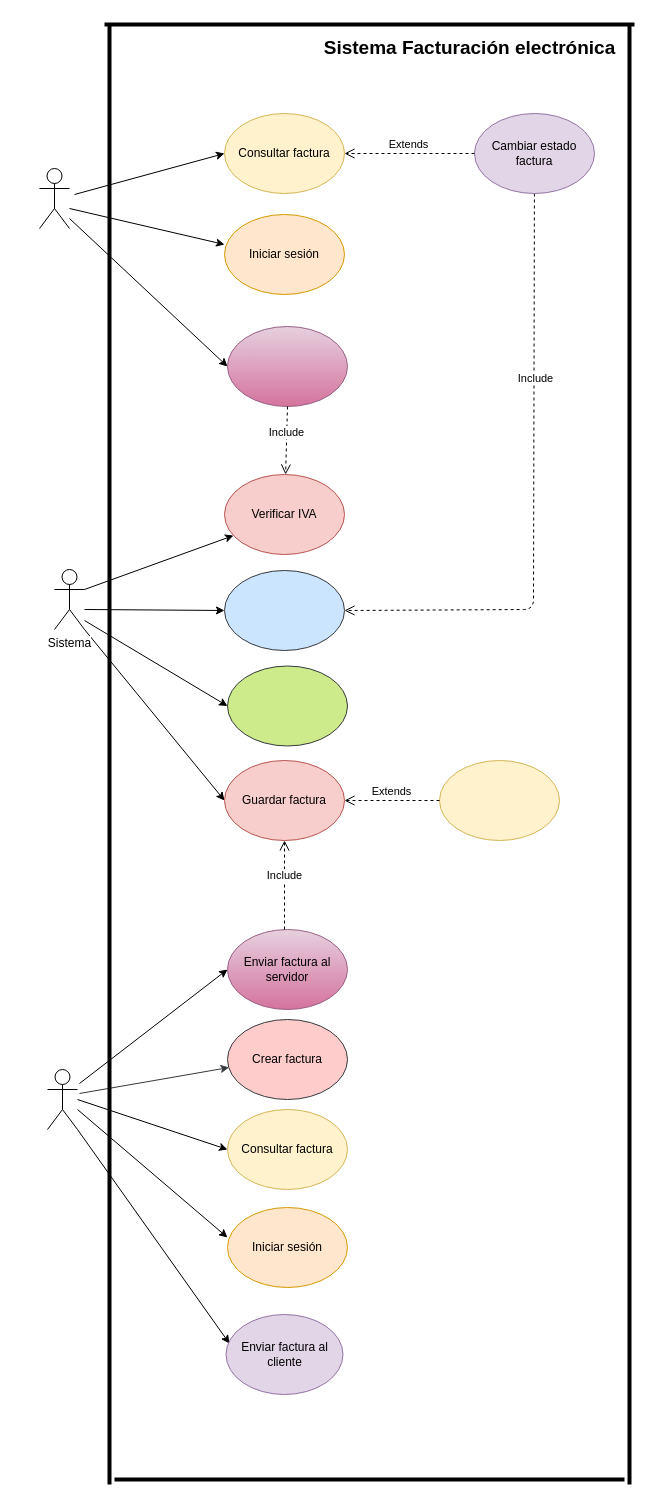
This 654x1503 diagram has some shape labels left out. The centre of each missing label's shape, as x and y in pixels:
Actualizar XML: (x=284, y=610)
Administrador: (x=54, y=198)
Consultar IVA: (x=287, y=366)
Enviar reporte DIAN: (x=287, y=705)
Generar XML: (x=499, y=800)
Vendedor: (x=62, y=1099)
